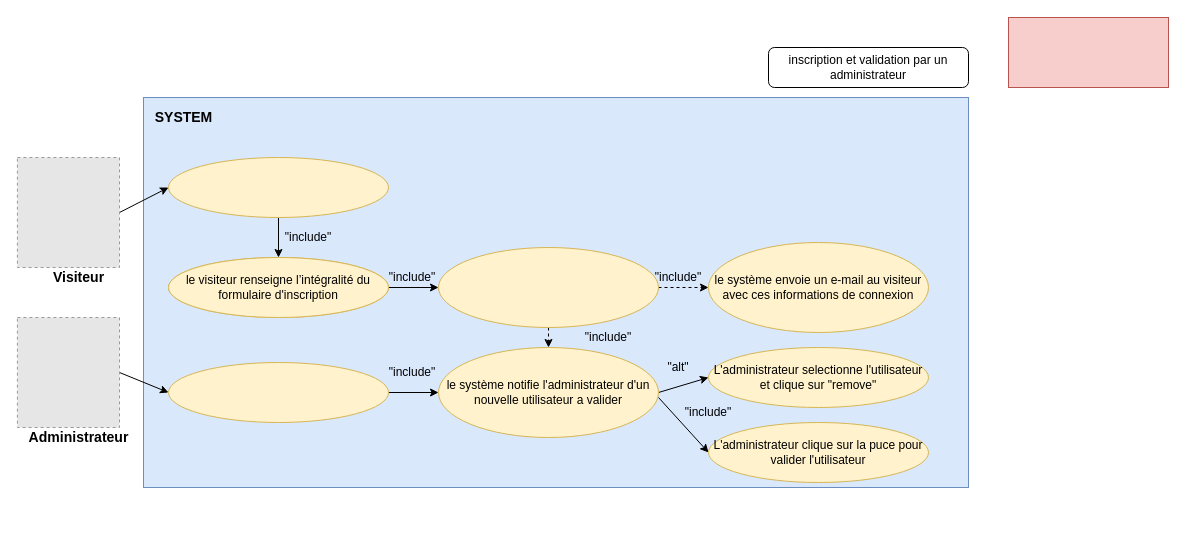
This 1187x552 diagram has some shape labels left out. Grey dashed boxes stand in for pictures. The centre of each missing label's shape, as x and y in pixels:
Important : j'ai décidé de cette méthode de validation pour plus de securité.: pixel 1088 52
l'administrateur accède a son dashboard: pixel 278 392
Le visiteur clique sur "sign up": pixel 278 187
le visiteur clique sur "submit": pixel 548 287
